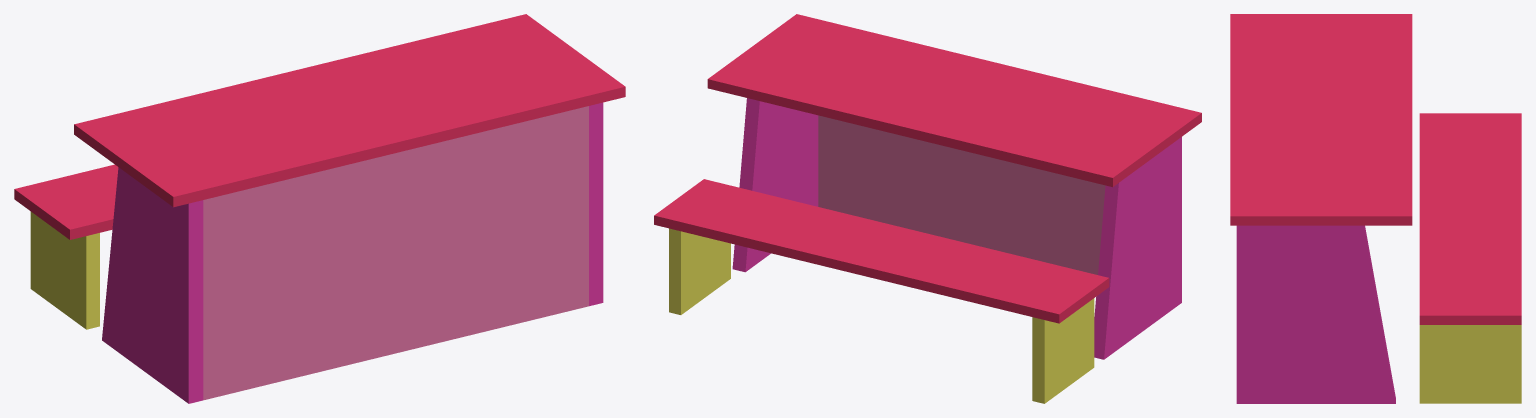
The model's file is стол и лавочка от лекционной .fbx.
3 renders of one model, left to right at view 1: azimuth 30°, elevation 25°; view 2: azimuth 150°, elevation 25°; view 3: azimuth 270°, elevation 25°, orthographic. The views are drawn at different scales.
Visible parts, largest first — view 1: Куб.016; view 2: Куб.016; view 3: Куб.016.
Boxes of the visible parts, x1,y1,x2,y2 form: Куб.016: (14, 14, 625, 403); Куб.016: (654, 14, 1201, 403); Куб.016: (1230, 14, 1521, 403).
Size of the model in its own units: 6.86 by 3.1 by 4.18.
